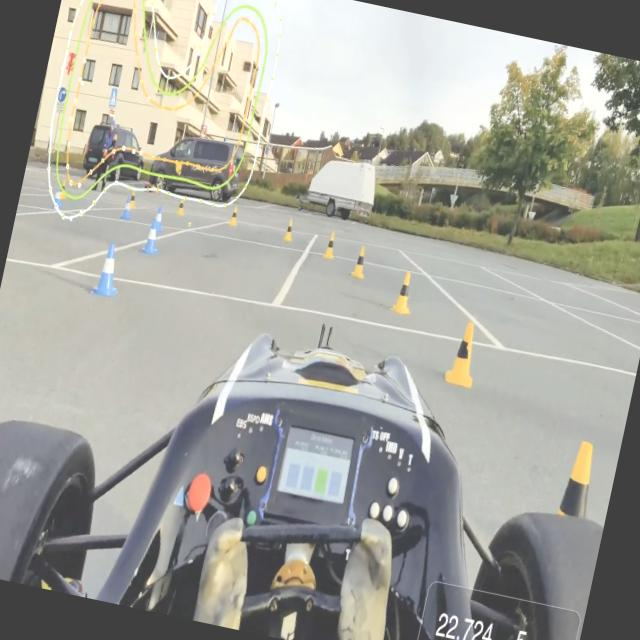blue_cone: (91, 238, 127, 298), (141, 216, 163, 258), (150, 203, 168, 235), (52, 183, 66, 210), (120, 195, 134, 221)
yellow_cone: (534, 436, 611, 584), (444, 319, 484, 389), (390, 268, 418, 316), (350, 244, 371, 280), (322, 230, 338, 260), (227, 204, 242, 228), (282, 218, 296, 242), (125, 187, 138, 210), (57, 176, 69, 200), (175, 196, 188, 218)
